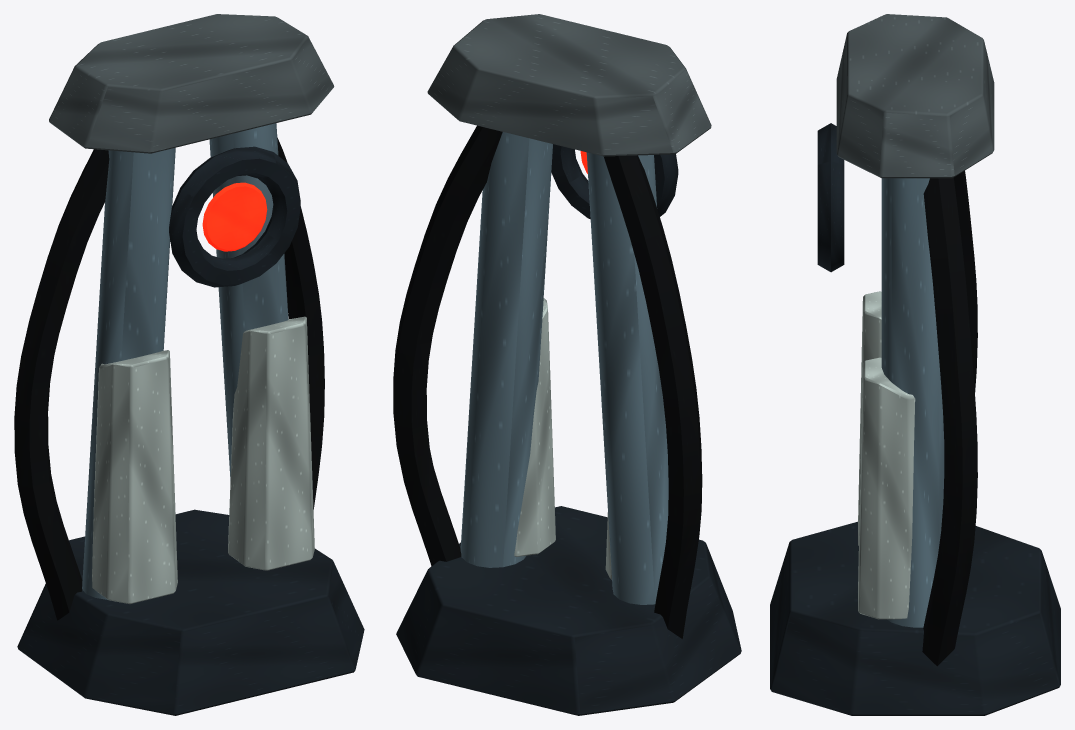
File: Containment_Frame_V2.fbx
3 views of the same model, side by side, from view 1: azimuth 30°, elevation 25°; view 2: azimuth 150°, elevation 25°; view 3: azimuth 270°, elevation 25° (orthographic).
Parts seen in each view (by area): view 1: Containment_Frame_V2; view 2: Containment_Frame_V2; view 3: Containment_Frame_V2.
Part boxes in pixels (box(x1,y1,x2,y2)): Containment_Frame_V2: box(14, 14, 364, 715); Containment_Frame_V2: box(393, 14, 741, 715); Containment_Frame_V2: box(770, 14, 1060, 715).
Size of the model in its own units: 2.3 by 4.22 by 1.89.
